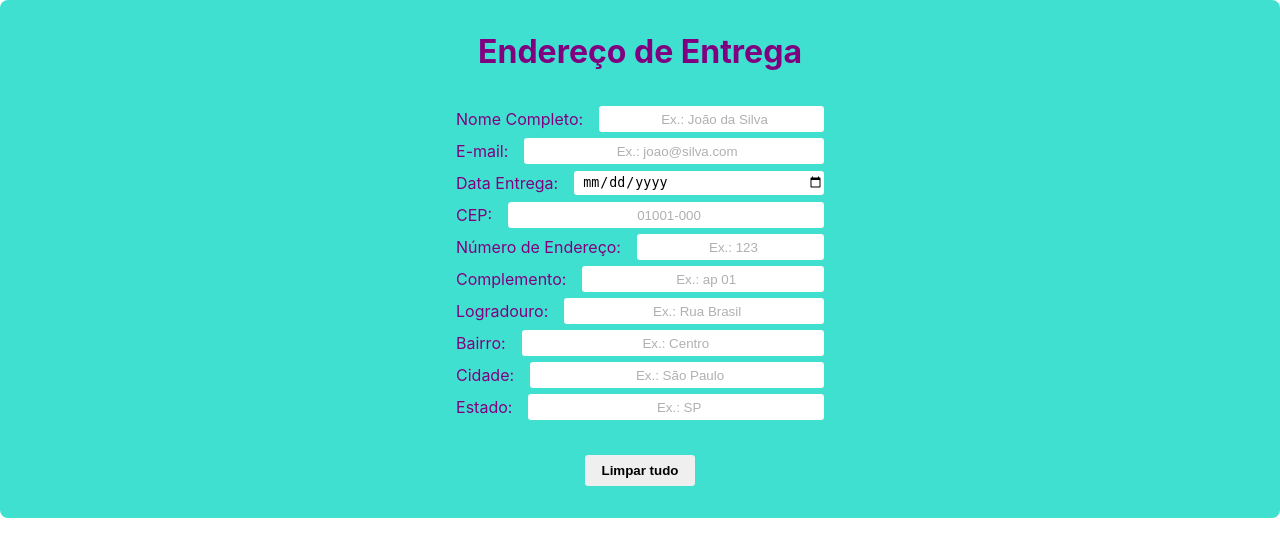
Scenario: type a CEP and neighborhood, city and state are shown as readonly
Type "01001000" into the field labelled "CEP:" at {"x": 666, "y": 215}, box [508,202,824,228]
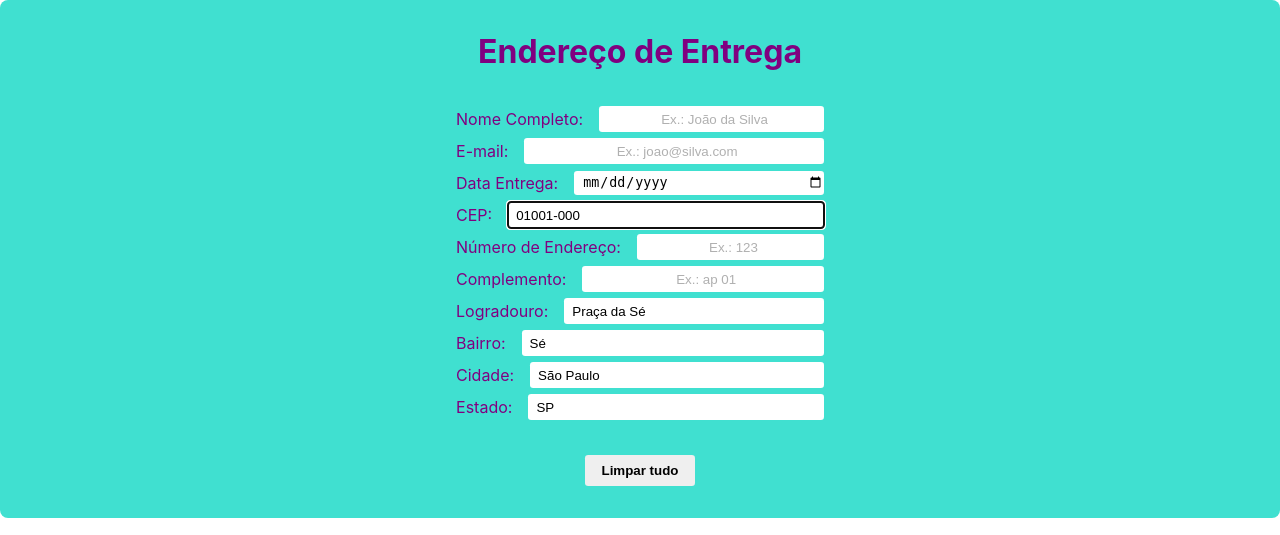
Expected: the field labelled "Bairro:" holds "Sé", [522,330,824,356]
Expected: the field labelled "Cidade:" holds "São Paulo", [530,362,824,388]
Expected: the field labelled "Estado:" holds "SP", [528,394,824,420]
